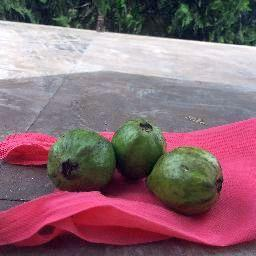guava: (147, 147, 224, 217), (44, 124, 117, 196), (114, 121, 172, 180)
